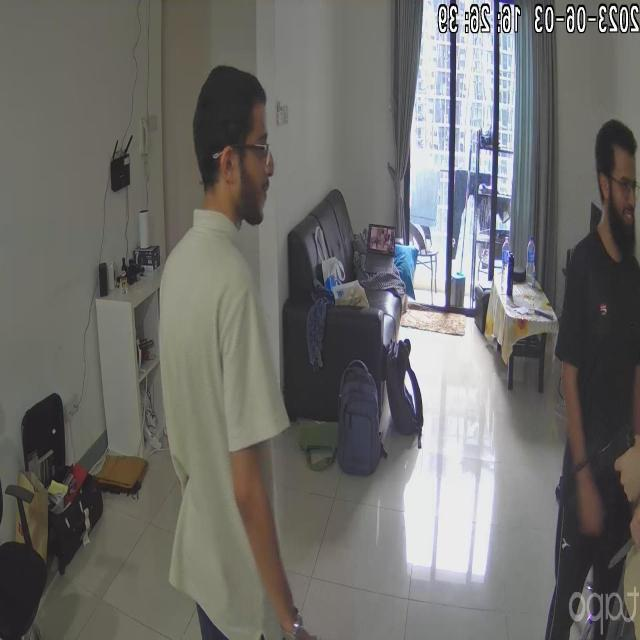Knife: (596, 520, 637, 572)
